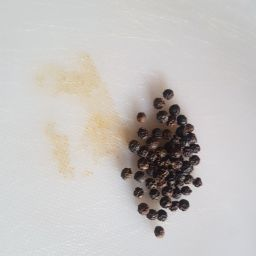Pepper corns: (112, 80, 212, 244), (128, 107, 205, 223)
